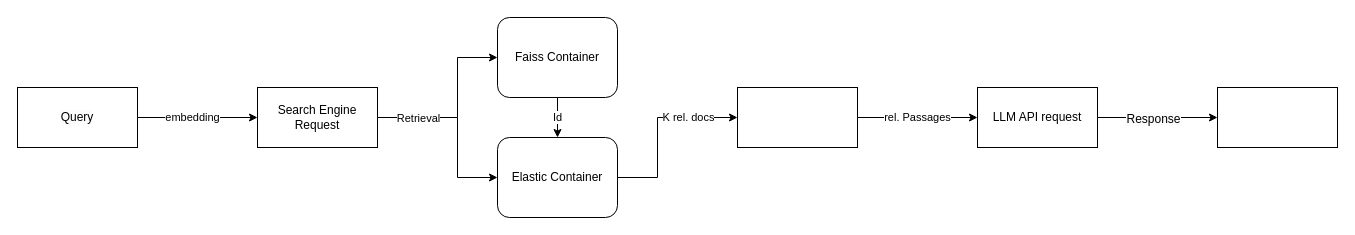
Image size: 1355x235. Some labels were removed from this diagram. The centre of each missing label's shape, as x and y in pixels:
Evaluation: the point at 1277,117
Passage Retrieval: the point at 797,117
